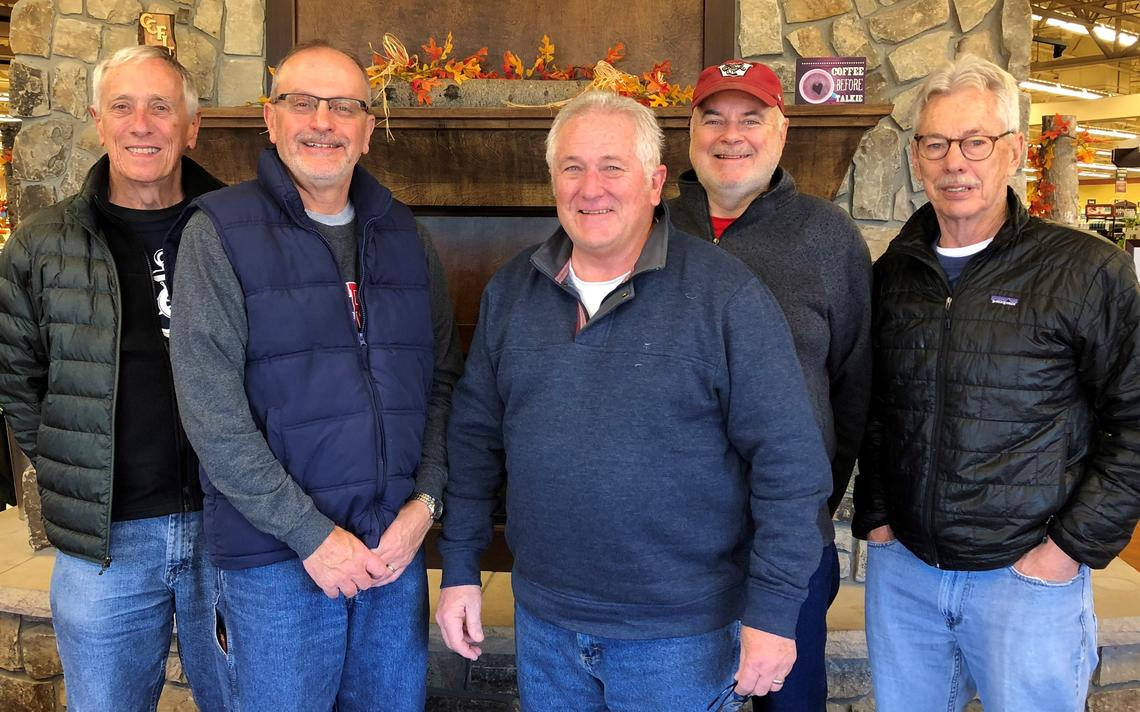Person: (436, 94, 824, 712), (171, 40, 453, 712), (853, 53, 1140, 712), (1, 48, 223, 712), (669, 61, 871, 712)
